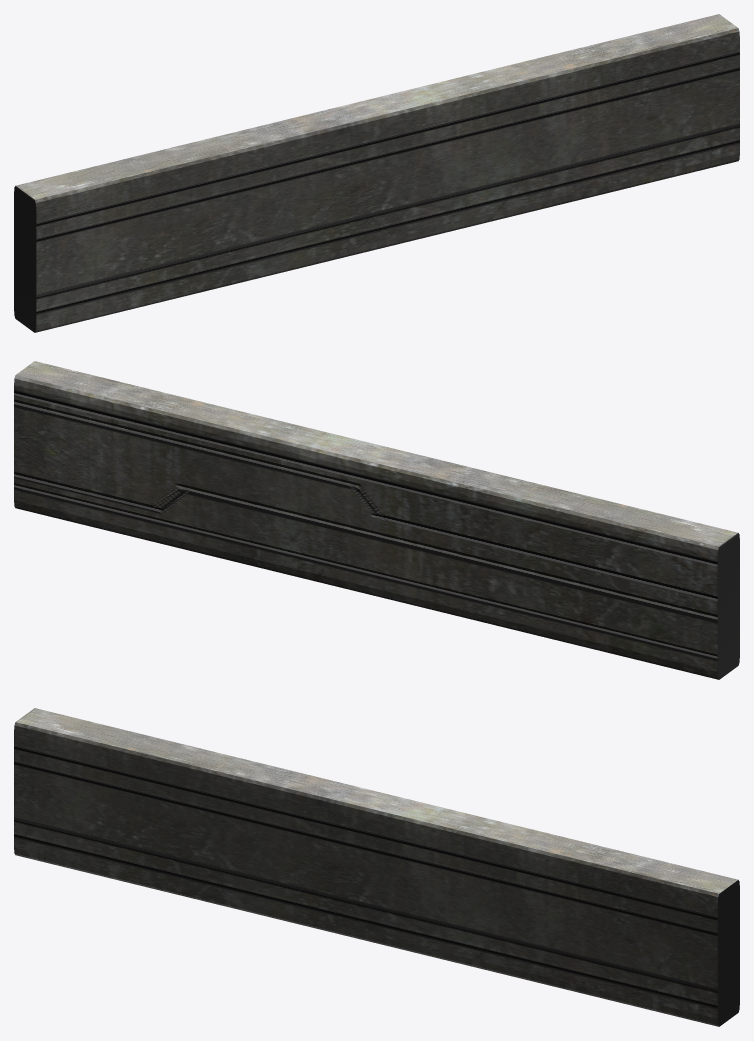
The model's file is deco h.fbx.
The picture shows the model from 3 angles, top to bottom: view 1: azimuth 30°, elevation 25°; view 2: azimuth 150°, elevation 25°; view 3: azimuth 330°, elevation 25°; orthographic projection.
Visible parts, largest first — view 1: Cube.061; view 2: Cube.061; view 3: Cube.061.
Boxes of the visible parts, bbox=[...] form: Cube.061: bbox=[14, 14, 739, 332]; Cube.061: bbox=[14, 361, 739, 679]; Cube.061: bbox=[14, 708, 739, 1026].
Bounding box in the file's own units: 3662 × 662 × 200.
